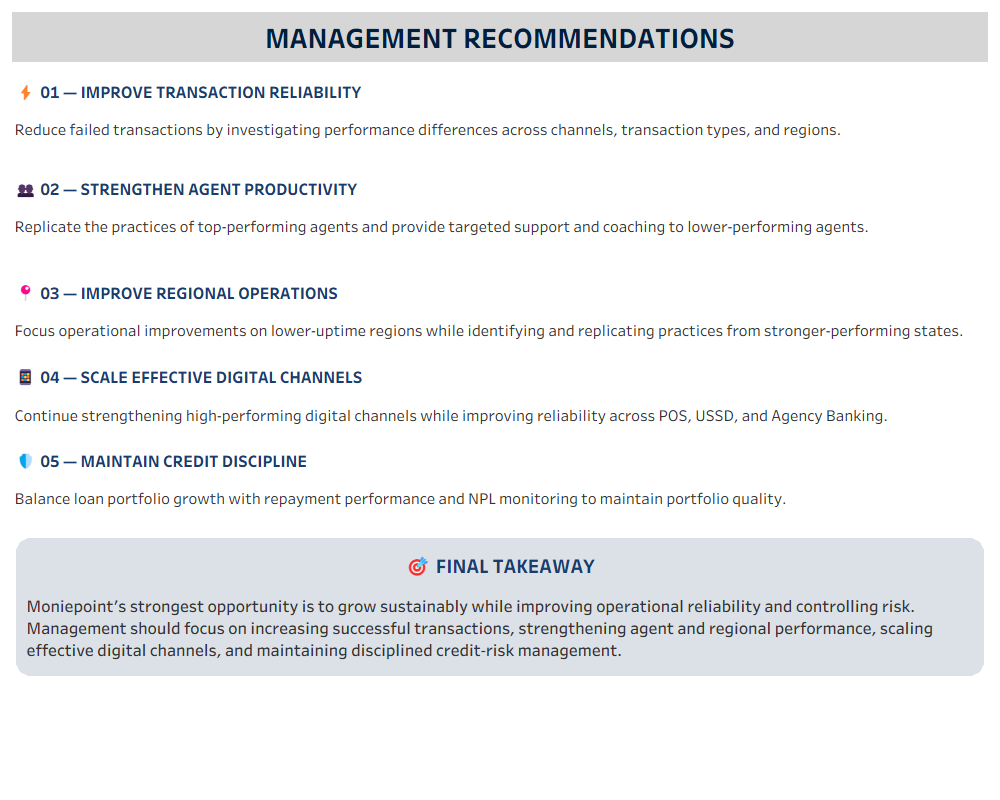

Layout of this report page (visuals, bound fields, positions):
{"tool":"tableau","page":{"name":"Management recommendations","canvas":[1000,800],"ordinal":4},"visuals":[{"type":"title","box":[8,8,984,58]},{"type":"text","box":[8,66,984,89]},{"type":"text","box":[8,154.9,984,104.6]},{"type":"text","box":[8,259.5,984,103.7]},{"type":"text","box":[8,363.2,984,65.8]},{"type":"text","box":[8,429,984,100.9]},{"type":"text","box":[8,530,984,154]}]}

Visuals, with their boxes in screenshot pixels (x1, y1, x2, y2), scaled from the page's 1000x800 canvas onto the 1000x800 screenshot:
title: <box>8,8,992,66</box>
text: <box>8,66,992,155</box>
text: <box>8,155,992,260</box>
text: <box>8,260,992,363</box>
text: <box>8,363,992,429</box>
text: <box>8,429,992,530</box>
text: <box>8,530,992,684</box>
